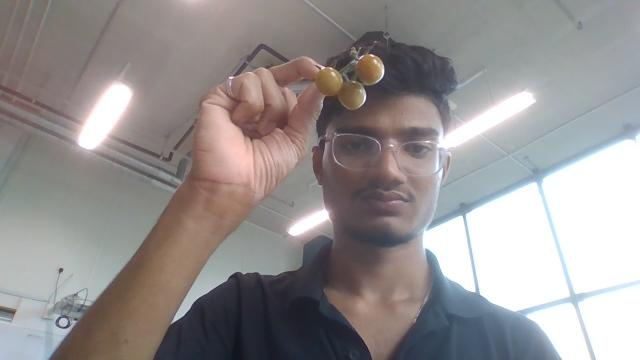Fully Grown: (355, 53, 385, 85), (337, 80, 366, 111), (314, 66, 343, 96)
